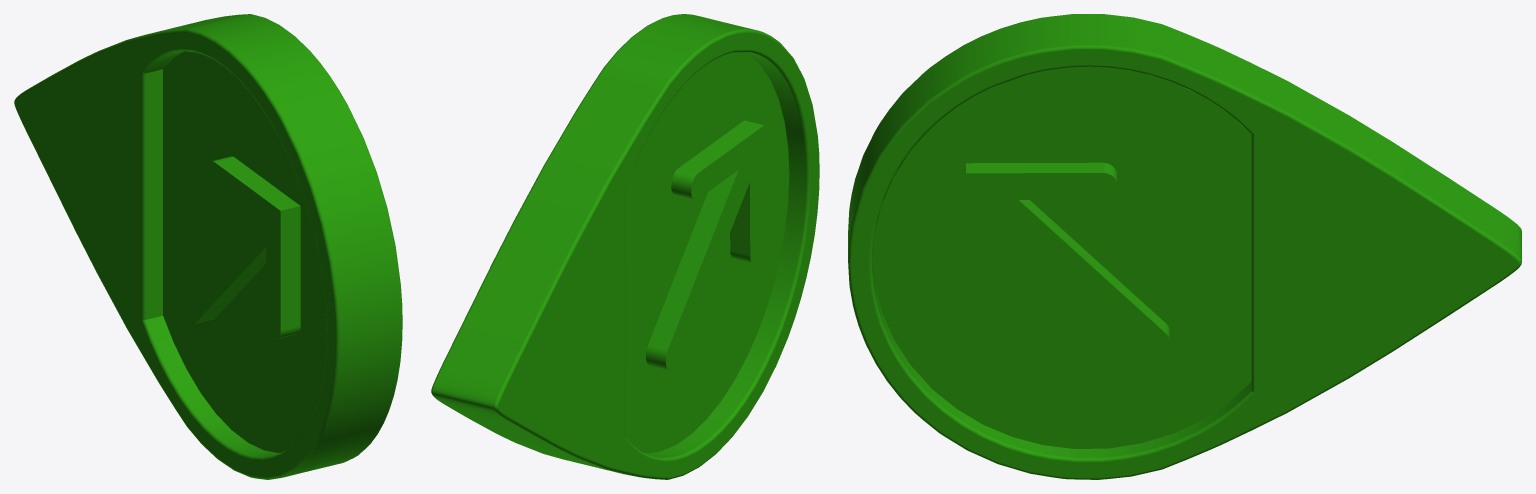
The model's file is ICONO 10.fbx.
3 views of the same model, side by side, from view 1: azimuth 30°, elevation 25°; view 2: azimuth 150°, elevation 25°; view 3: azimuth 270°, elevation 25° (orthographic). The views are drawn at different scales.
Visible parts, largest first — view 1: Icono 7; view 2: Icono 7; view 3: Icono 7.
Boxes of the visible parts, x1,y1,x2,y2 form: Icono 7: (14,14,402,479); Icono 7: (431,14,819,479); Icono 7: (848,14,1521,479).
Bounding box in the file's own units: 112 × 675 × 947.
